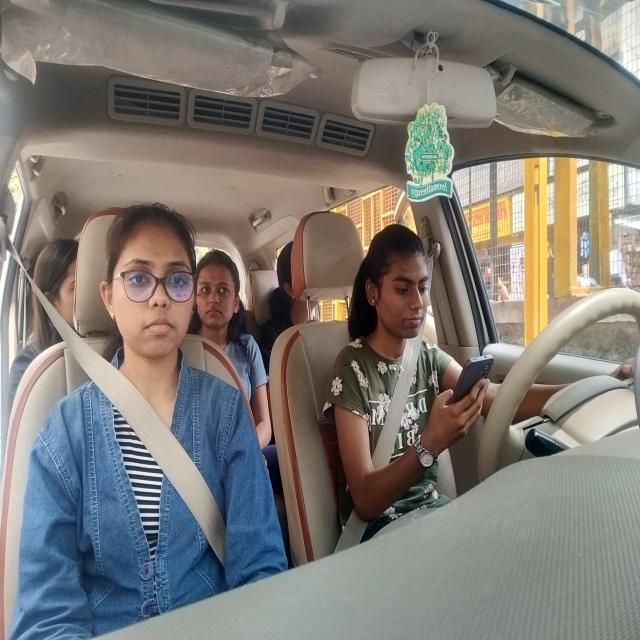mobile: (453, 349, 493, 422)
person: (106, 205, 196, 360), (363, 230, 434, 346), (30, 233, 81, 340), (198, 257, 239, 324), (279, 283, 325, 320)
